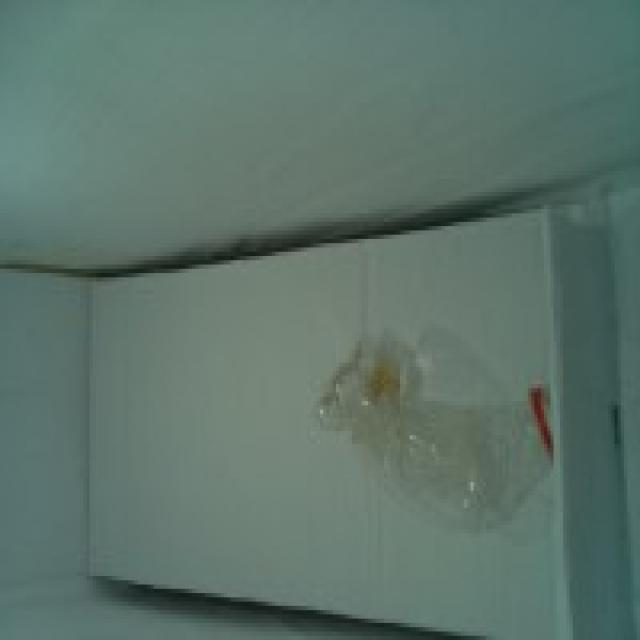plastic_bottle: (309, 334, 554, 532)
